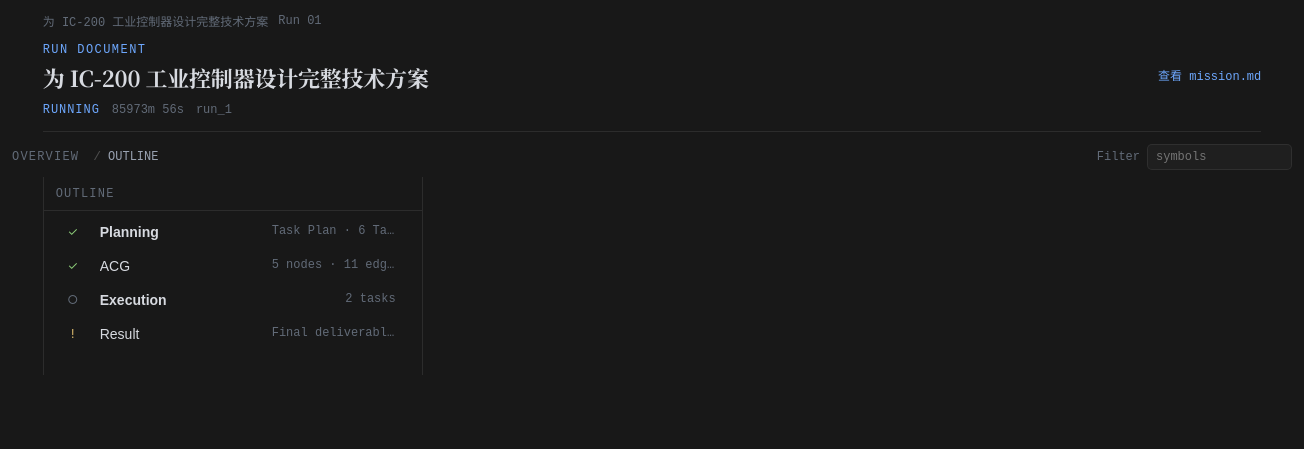
RunProgressEditor › lets the graph column use the remaining editor width
Step 1. Click the button with class "run-symbol__main" that starts with "Planning" → (129, 232), box [94,217,402,247]
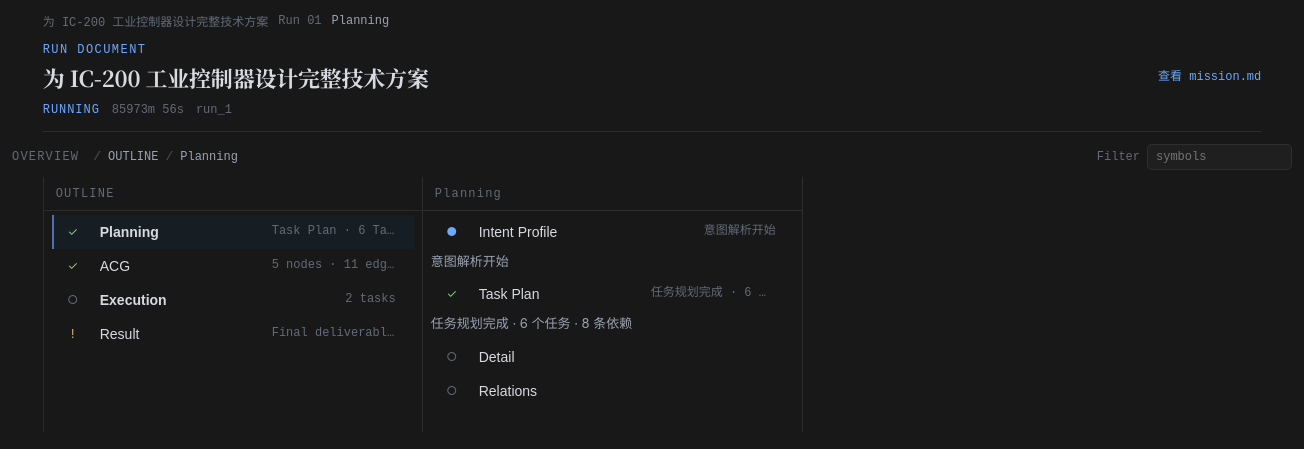
Step 2. Click the button with class "run-symbol__main" showing "ACG 5 nodes · 11 edges" → (115, 266), box [94,251,402,281]
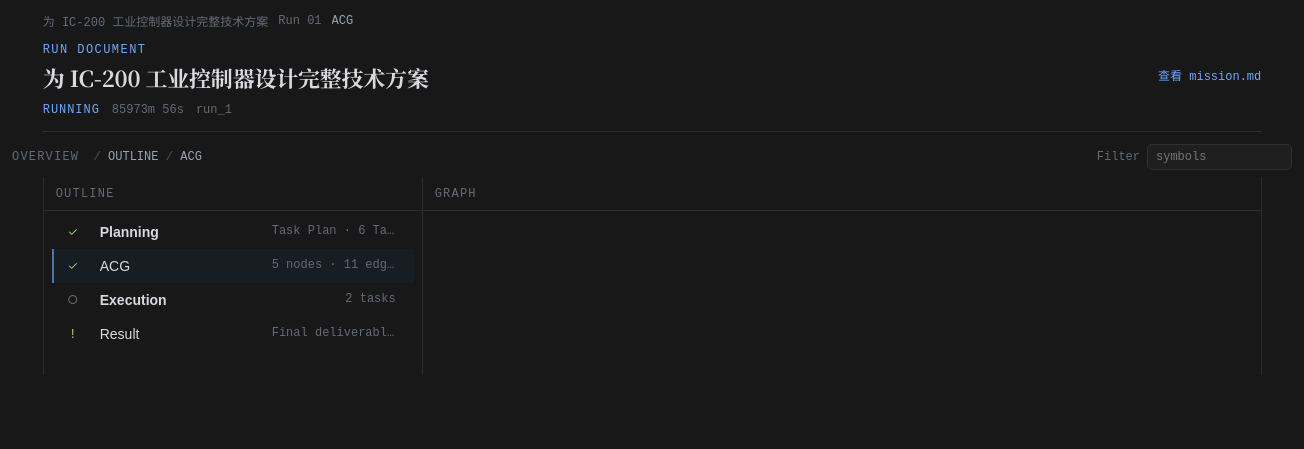
Check: the element with class "is-graph-column" is shown, box [423,177,1262,375]
